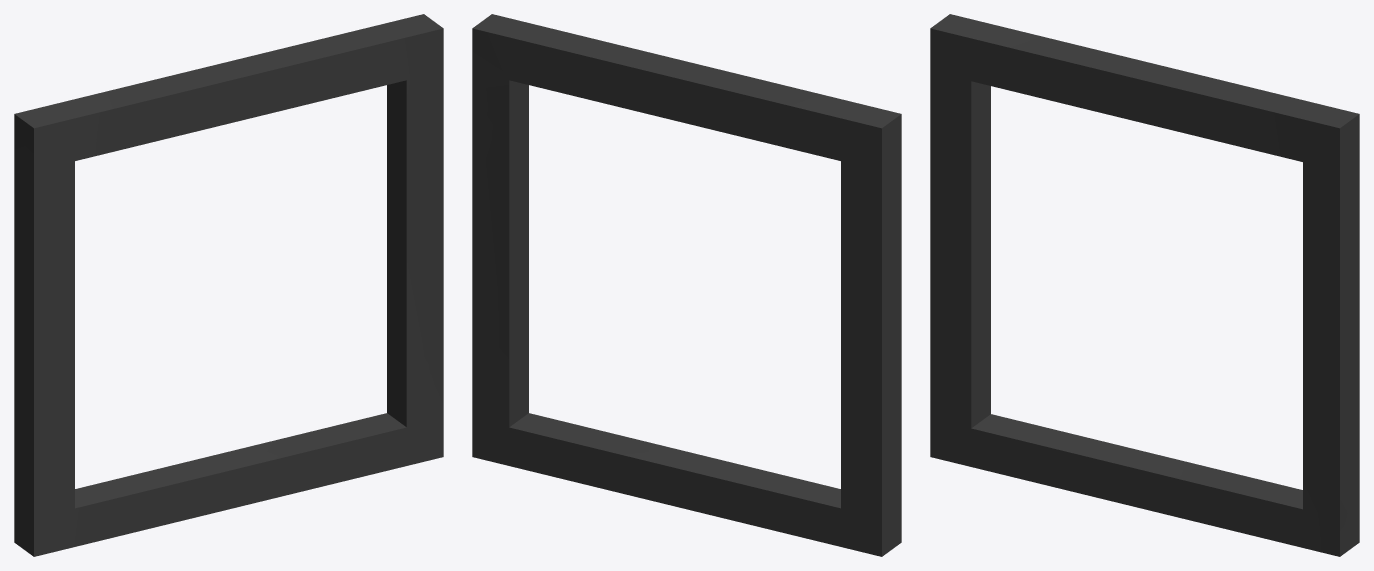
The model's file is StationWallGlassPiece.fbx.
3 renders of one model, left to right at view 1: azimuth 30°, elevation 25°; view 2: azimuth 150°, elevation 25°; view 3: azimuth 330°, elevation 25°, orthographic.
Visible parts, largest first — view 1: Plane; view 2: Plane; view 3: Plane.
Boxes of the visible parts, left/top/right/bottom form: Plane: left=14, top=14, right=443, bottom=556; Plane: left=472, top=14, right=901, bottom=556; Plane: left=930, top=14, right=1359, bottom=556.
Bounding box in the file's own units: 240 × 240 × 20.
